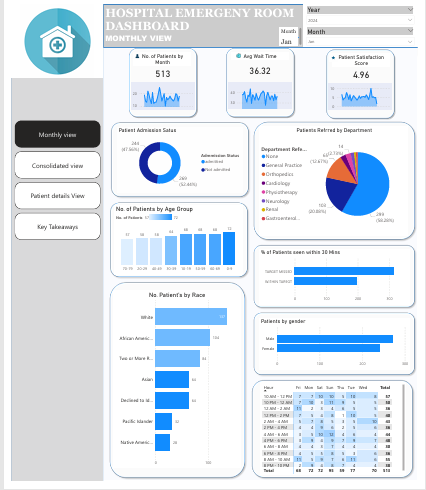

What the dashboard file says about the page in this screenshot:
{"tool":"powerbi","page":{"name":"Monthly view ","canvas":[1280,1500],"ordinal":0},"visuals":[{"type":"shape","box":[365,133.3,223.3,226.7],"z":0},{"type":"shape","box":[0,0,290,2400],"z":1000},{"type":"areaChart","fields":{"Category":["Date Table.Date.Variation.Date Hierarchy.Day"],"Y":["Hospital ER_Data.No. of Patients"]},"box":[376.7,246.7,200,86.7],"z":2000},{"type":"shape","box":[290,0,990,135],"z":3000},{"type":"textbox","box":[290,0,692.5,135],"z":4000},{"type":"slicer","fields":{"Values":["Date Table.Month"]},"box":[920,67.7,360,67.7],"z":5000},{"type":"kpi","fields":{"Indicator":["Hospital ER_Data.No. of Patients"],"TrendLine":["Date Table.Month"]},"box":[385,151.7,181.7,95],"z":6000},{"type":"slicer","fields":{"Values":["Date Table.Year"]},"box":[920,0,360,67.7],"z":7000},{"type":"tableEx","fields":{"Values":["Date Table.Month"]},"box":[838.3,66.7,81.7,68.3],"z":8000},{"type":"shape","box":[673.3,133.3,223.3,226.7],"z":9000},{"type":"shape","box":[988.3,136.7,223.3,226.7],"z":10000},{"type":"kpi","title":"Avg Wait Time","fields":{"Indicator":["Hospital ER_Data.Avg Wait time"],"TrendLine":["Date Table.Month"]},"box":[693.3,151.7,181.7,95],"z":11000},{"type":"areaChart","fields":{"Category":["Date Table.Date.Variation.Date Hierarchy.Day"],"Y":["Hospital ER_Data.Avg Wait time"]},"box":[685,246.7,200,85],"z":12000},{"type":"kpi","title":"Patient Satisfaction Score ","fields":{"Indicator":["Hospital ER_Data.Patient SatisfactionScore"],"TrendLine":["Date Table.Month"]},"box":[1013.3,155,180,95],"z":13000},{"type":"areaChart","fields":{"Category":["Date Table.Date.Variation.Date Hierarchy.Day"],"Y":["Hospital ER_Data.Patient SatisfactionScore"]},"box":[1000,250,200,85],"z":14000},{"type":"shape","box":[305,363.3,450,251.7],"z":15000},{"type":"donutChart","title":"Patient Admission Satus","fields":{"Category":["Hospital ER_Data.Admmission Status"],"Y":["Hospital ER_Data.No. of Patients"]},"box":[333.3,386.7,396.7,205],"z":16000},{"type":"shape","box":[303.3,615,450,251.7],"z":17000},{"type":"clusteredColumnChart","fields":{"Category":["Hospital ER_Data.Age Group"],"Y":["Hospital ER_Data.No. of Patients"]},"box":[325,633.3,405,218.3],"z":18000},{"type":"shape","box":[755,361.7,525,388.3],"z":19000},{"type":"pieChart","title":"Patients Refrred by Department ","fields":{"Category":["Hospital ER_Data.Department Referral"],"Y":["Hospital ER_Data.No. of Patients"]},"box":[782.5,383.8,470,343.8],"z":20000},{"type":"shape","box":[755.6,750,524.4,213.3],"z":21000},{"type":"shape","box":[301.7,866.7,443.3,633.3],"z":22000},{"type":"image","box":[997.3,153.6,35.5,26.4],"z":23000},{"type":"barChart","title":"% of Patients seen within 30 Mins ","fields":{"Y":["Hospital ER_Data.No. of Patients"],"Category":["Hospital ER_Data.Waittime Status"]},"box":[781.7,771.7,475,175],"z":24000},{"type":"shape","box":[755.7,962.9,524.3,212.9],"z":25000},{"type":"clusteredBarChart","title":"Patients by gender ","fields":{"Category":["Hospital ER_Data.Patient Gender"],"Y":["Hospital ER_Data.No. of Patients"]},"box":[781.4,988.6,474.3,162.9],"z":26000},{"type":"shape","box":[750,1175.7,524.3,324.3],"z":27000},{"type":"clusteredBarChart","title":"No. Patient''s by Race","fields":{"Category":["Hospital ER_Data.Patient Race"],"Y":["Hospital ER_Data.No. of Patients"]},"box":[321.7,903.3,401.7,560],"z":28000},{"type":"pivotTable","fields":{"Rows":["Hospital ER_Data.Hour Interval"],"Columns":["Date Table.DAY"],"Values":["Hospital ER_Data.No. of Patients"]},"box":[785,1191.2,460,291.2],"z":29000},{"type":"image","box":[0,0,290,232.2],"z":30000},{"type":"image","box":[385.5,151.8,21.8,22.7],"z":31000},{"type":"image","box":[710,109.1,13.6,105.5],"z":32000},{"type":"pageNavigator","box":[10,366,270,376],"z":32001}]}

Visuals, with their boxes in screenshot pixels (x1, y1, x2, y2), scaled from the page's 1280x1500 canvas onto the 426x490 screenshot:
shape: 121,44,196,118
shape: 0,0,97,489
areaChart - Date Table.Date.Variation.Date Hierarchy.Day x Hospital ER_Data.No. of Patients: 125,81,192,109
shape: 97,0,425,44
textbox: 97,0,327,44
slicer - Date Table.Month: 306,22,425,44
kpi - Hospital ER_Data.No. of Patients x Date Table.Month: 128,50,189,81
slicer - Date Table.Year: 306,0,425,22
tableEx - Date Table.Month: 279,22,306,44
shape: 224,44,298,118
shape: 329,45,403,119
"Avg Wait Time" kpi: 231,50,291,81
areaChart - Date Table.Date.Variation.Date Hierarchy.Day x Hospital ER_Data.Avg Wait time: 228,81,295,108
"Patient Satisfaction Score " kpi: 337,51,397,82
areaChart - Date Table.Date.Variation.Date Hierarchy.Day x Hospital ER_Data.Patient SatisfactionScore: 333,82,399,109
shape: 102,119,251,201
"Patient Admission Satus" donutChart: 111,126,243,193
shape: 101,201,251,283
clusteredColumnChart - Hospital ER_Data.Age Group x Hospital ER_Data.No. of Patients: 108,207,243,278
shape: 251,118,425,245
"Patients Refrred by Department " pieChart: 260,125,417,238
shape: 251,245,425,315
shape: 100,283,248,489
image: 332,50,344,59
"% of Patients seen within 30 Mins " barChart: 260,252,418,309
shape: 252,315,425,384
"Patients by gender " clusteredBarChart: 260,323,418,376
shape: 250,384,424,489
"No. Patient''s by Race" clusteredBarChart: 107,295,241,478
pivotTable - Hospital ER_Data.Hour Interval x Date Table.DAY: 261,389,414,484
image: 0,0,97,76
image: 128,50,136,57
image: 236,36,241,70
pageNavigator: 3,120,93,242
